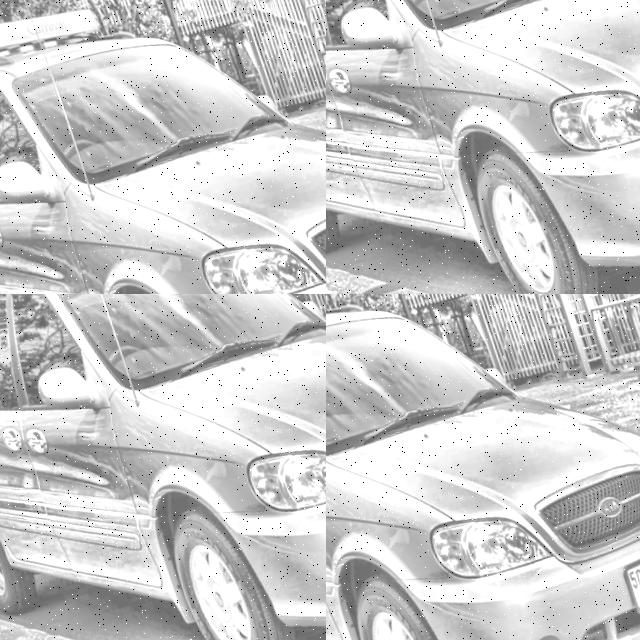license-plate: (0, 294, 326, 594), (506, 37, 592, 101), (605, 542, 640, 618)
